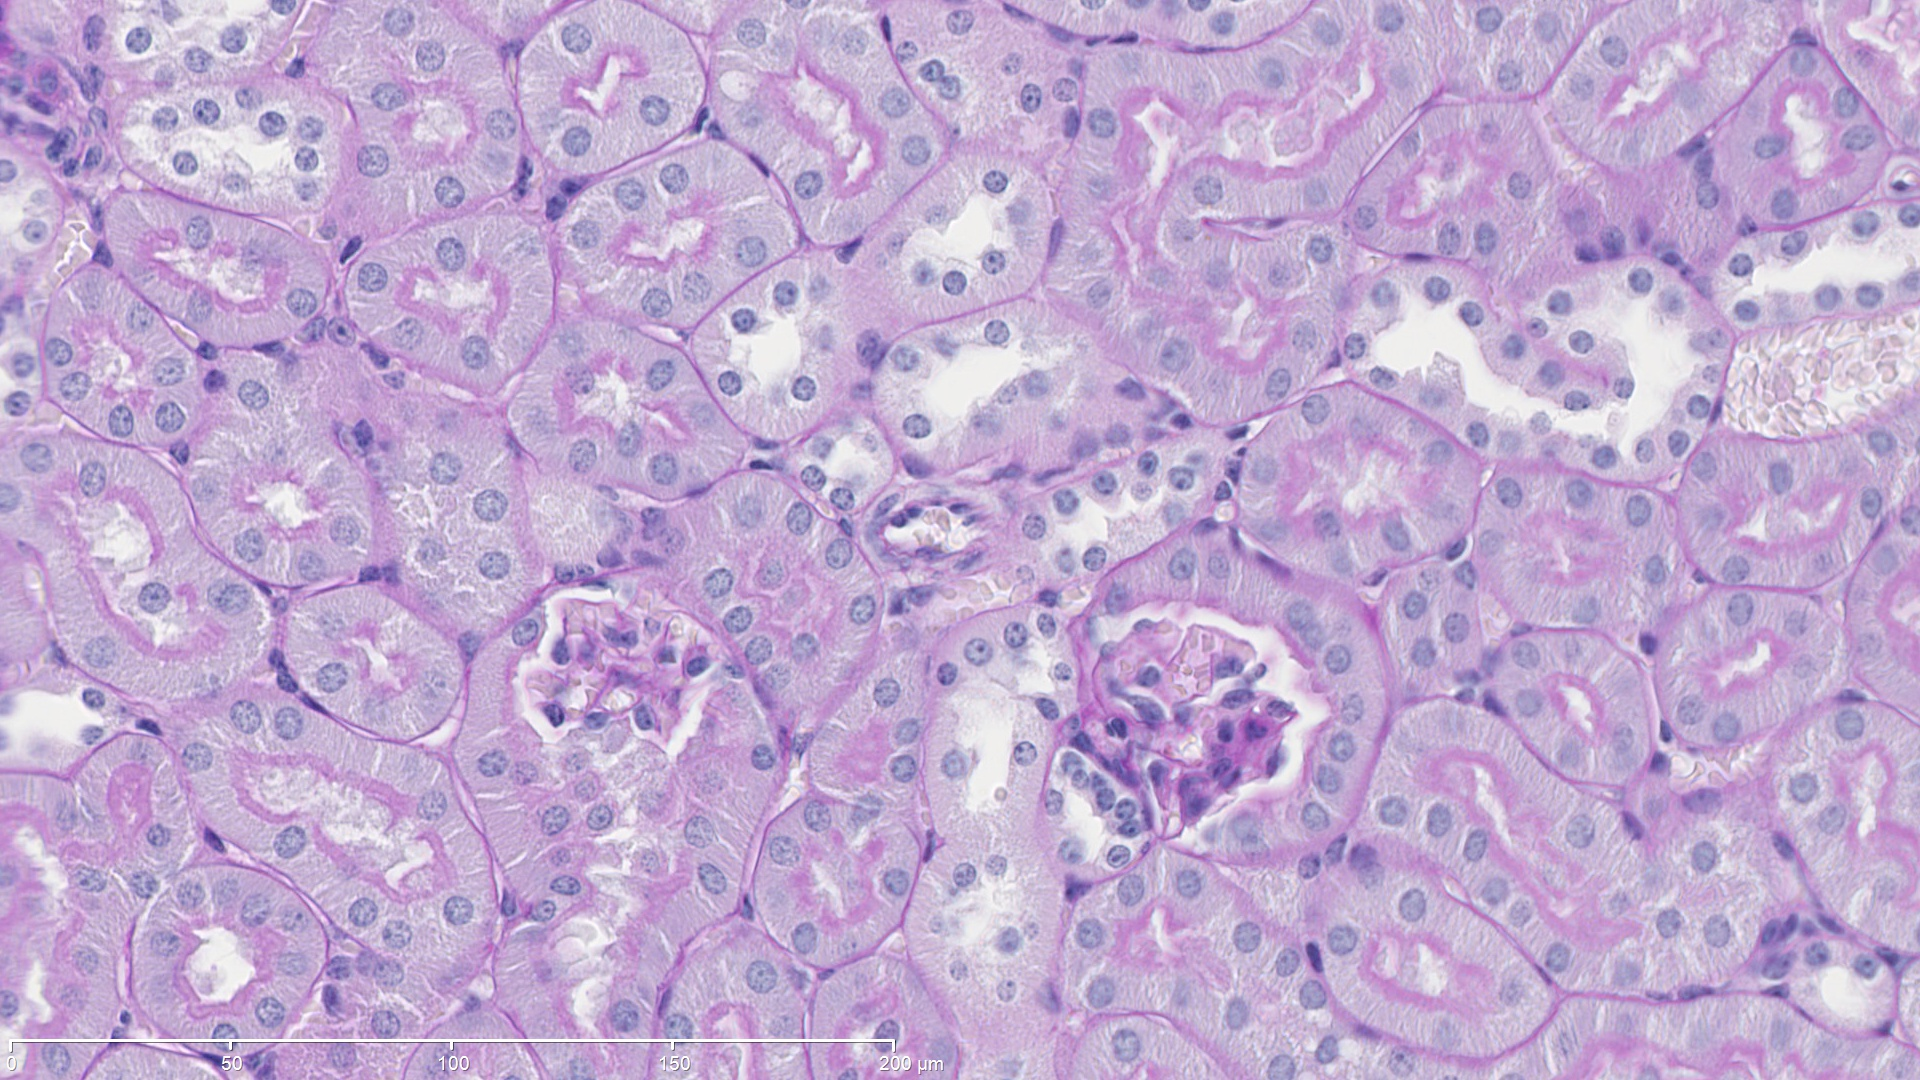Glomeruli: (1054, 611, 1319, 840), (534, 589, 725, 744)
